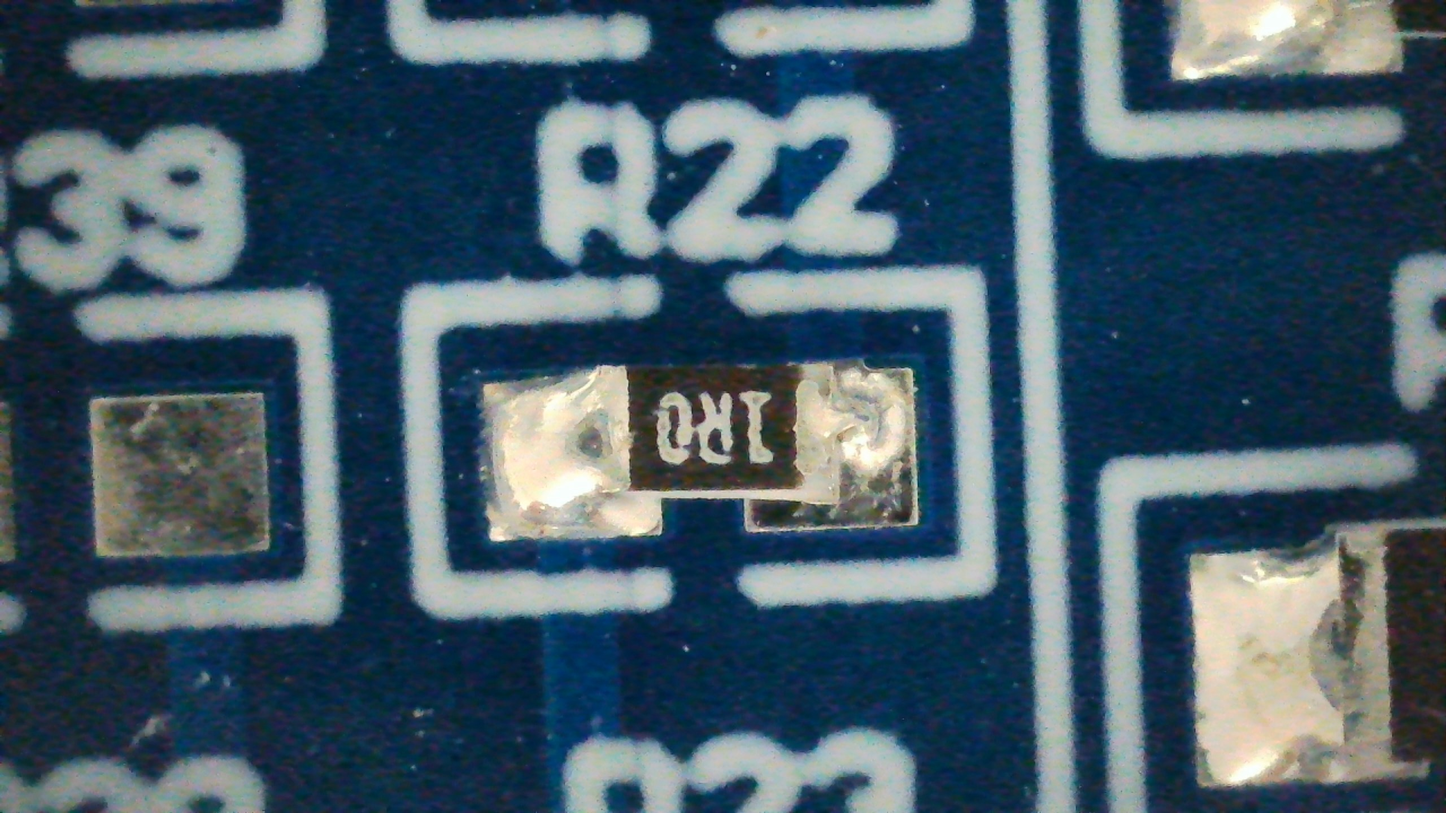NG: (484, 361, 919, 541)
